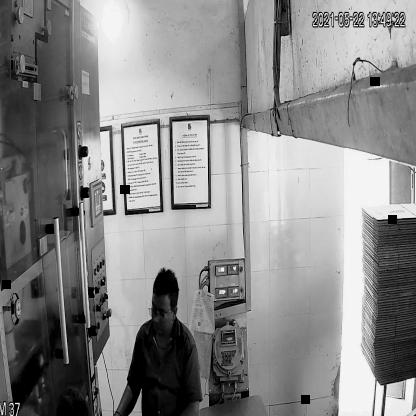goggles: (146, 301, 180, 321)
